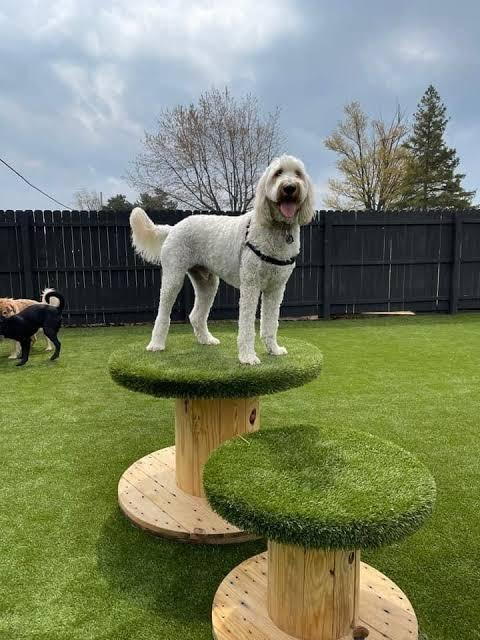adult_dog: (127, 155, 322, 366), (1, 287, 65, 361), (0, 288, 62, 364)
